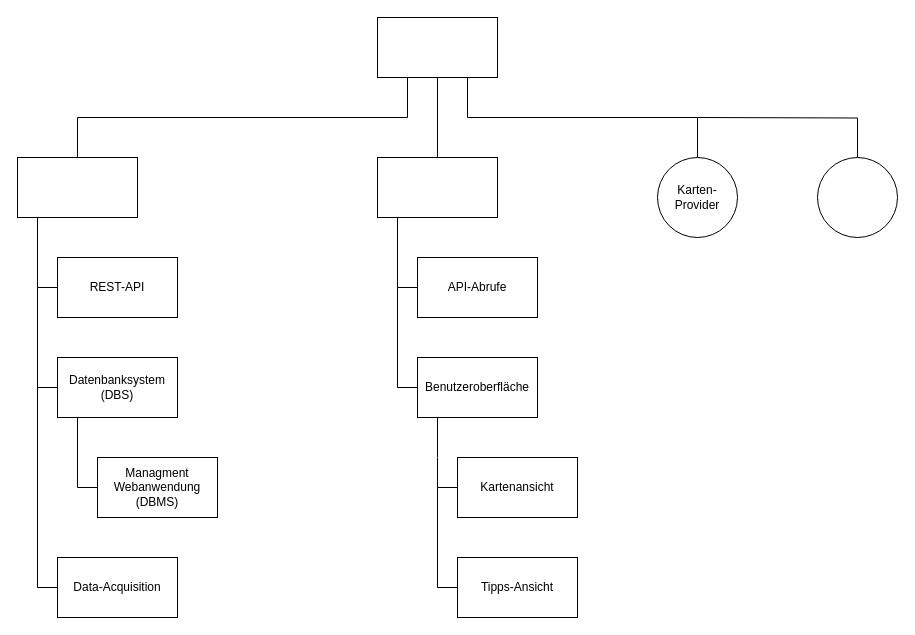
Some shapes in this 915 by 635 pixel diagram are drawn without their labels. Here are the shapes that lost their labels. From the top down, the centre of each, then its label:
At pixel 437 47: "Mapsential".
At pixel 77 187: "Backend".
At pixel 437 187: "Frontend".
At pixel 857 197: "Daten".
